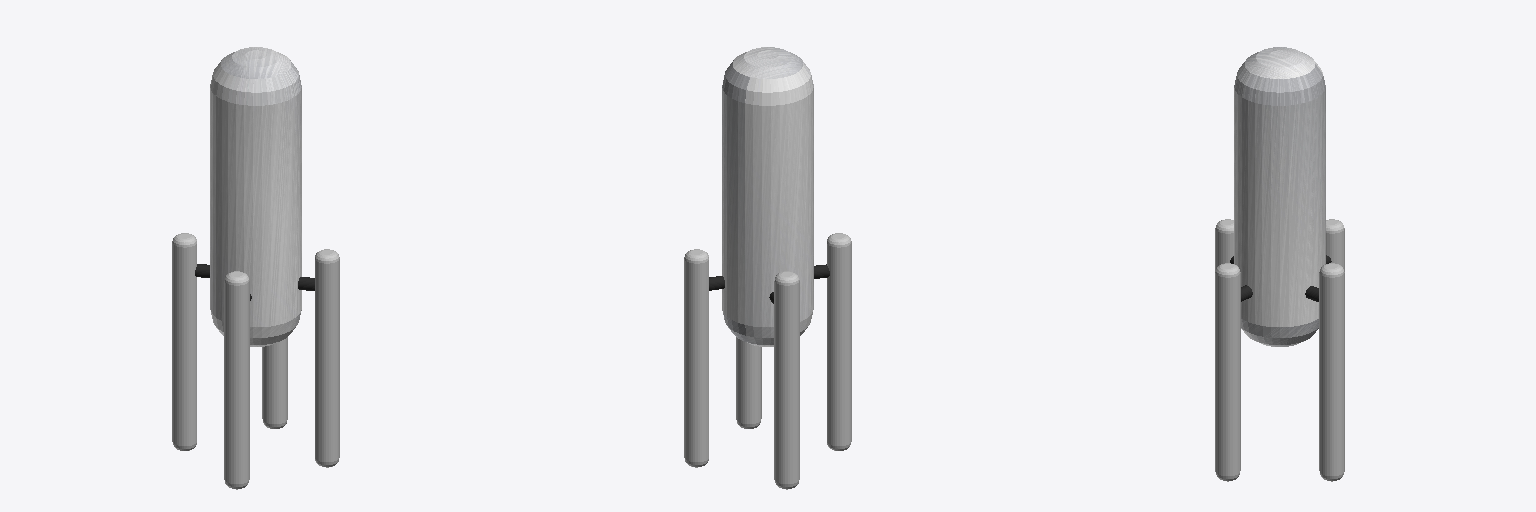
3 views of the same model, side by side, from view 1: azimuth 30°, elevation 25°; view 2: azimuth 150°, elevation 25°; view 3: azimuth 270°, elevation 25° (orthographic).
Parts seen in each view (by area): view 1: Цилиндр.004, Цилиндр.001, Цилиндр, Цилиндр.002, Цилиндр.003; view 2: Цилиндр.004, Цилиндр.002, Цилиндр.003, Цилиндр.001, Цилиндр; view 3: Цилиндр.004, Цилиндр, Цилиндр.003, Цилиндр.001, Цилиндр.002.
Boxes of the visible parts, x1=… form: Цилиндр.004: x1=210, y1=47, x2=301, y2=346; Цилиндр.001: x1=224, y1=271, x2=249, y2=489; Цилиндр: x1=315, y1=249, x2=339, y2=467; Цилиндр.002: x1=172, y1=233, x2=196, y2=450; Цилиндр.003: x1=262, y1=337, x2=287, y2=428; Цилиндр.004: x1=722, y1=47, x2=813, y2=346; Цилиндр.002: x1=774, y1=271, x2=799, y2=489; Цилиндр.003: x1=684, y1=249, x2=708, y2=467; Цилиндр.001: x1=827, y1=233, x2=851, y2=450; Цилиндр: x1=736, y1=337, x2=761, y2=428; Цилиндр.004: x1=1234, y1=47, x2=1325, y2=346; Цилиндр: x1=1215, y1=263, x2=1240, y2=481; Цилиндр.003: x1=1319, y1=263, x2=1344, y2=481; Цилиндр.001: x1=1215, y1=219, x2=1233, y2=271; Цилиндр.002: x1=1326, y1=219, x2=1344, y2=271.
Size of the model in its own units: 3.73 by 12.8 by 3.73.
3 materials, 1 textured.